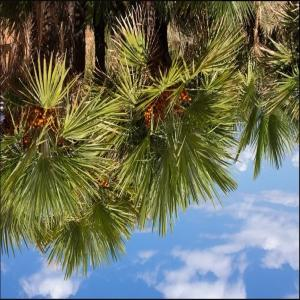palm tree: (0, 0, 299, 282)
